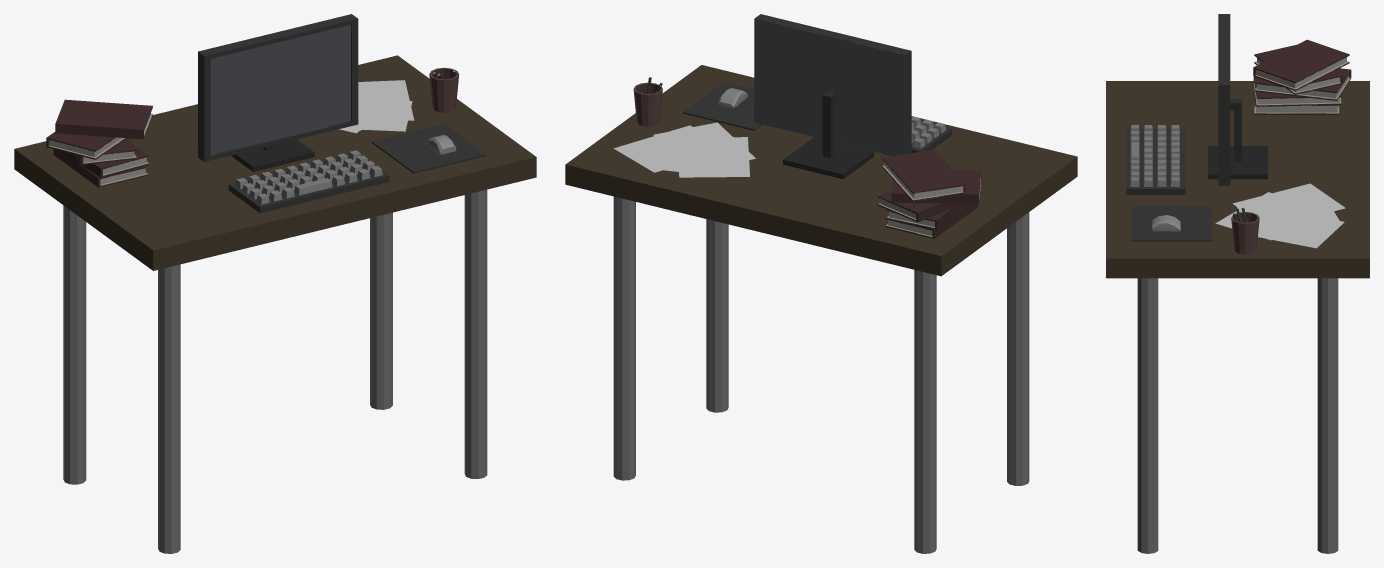
Rendered from table1.fbx.
The picture shows the model from 3 angles, left to right: view 1: azimuth 30°, elevation 25°; view 2: azimuth 150°, elevation 25°; view 3: azimuth 270°, elevation 25°; orthographic projection. The views are drawn at different scales.
Parts seen in each view (by area): view 1: polySurface111, polySurface100, polySurface107, polySurface110, polySurface109, polySurface108, polySurface105, polySurface106, polySurface89, polySurface99, polySurface104, polySurface174 (+7 smaller); view 2: polySurface111, polySurface100, polySurface108, polySurface109, polySurface110, polySurface107, polySurface99, polySurface105, polySurface96, polySurface106, polySurface104, polySurface174 (+5 smaller); view 3: polySurface111, polySurface107, polySurface108, polySurface105, polySurface96, polySurface106, polySurface100, polySurface99, polySurface89, polySurface174, polySurface103, polySurface102 (+5 smaller).
Boxes of the visible parts, x1,y1,x2,y2 form: polySurface111: (14, 55, 536, 270); polySurface100: (198, 14, 358, 161); polySurface107: (464, 189, 487, 478); polySurface110: (158, 264, 180, 553); polySurface109: (63, 205, 86, 484); polySurface108: (370, 212, 392, 409); polySurface105: (55, 99, 152, 139); polySurface106: (371, 123, 486, 173); polySurface89: (228, 155, 389, 213); polySurface99: (231, 139, 314, 171); polySurface104: (46, 132, 126, 159); polySurface174: (429, 67, 459, 112); polySurface111: (565, 65, 1077, 276); polySurface100: (754, 14, 911, 155); polySurface108: (613, 196, 635, 480); polySurface109: (914, 270, 936, 553); polySurface110: (1007, 212, 1029, 485); polySurface107: (706, 219, 728, 412); polySurface99: (783, 91, 874, 179); polySurface105: (882, 149, 965, 201); polySurface96: (677, 137, 749, 177); polySurface106: (683, 81, 762, 130); polySurface104: (891, 170, 980, 203); polySurface174: (633, 77, 662, 126); polySurface111: (1106, 81, 1369, 278); polySurface107: (1137, 278, 1158, 553); polySurface108: (1317, 278, 1338, 553); polySurface105: (1253, 39, 1349, 90); polySurface96: (1232, 183, 1345, 228); polySurface106: (1131, 206, 1211, 241); polySurface100: (1218, 14, 1230, 185); polySurface99: (1208, 99, 1267, 179); polySurface89: (1126, 129, 1185, 194); polySurface174: (1231, 208, 1259, 254); polySurface103: (1255, 68, 1351, 100); polySurface102: (1253, 76, 1341, 106).
Size of the model in its own units: 1.01 by 1.12 by 0.6274.
